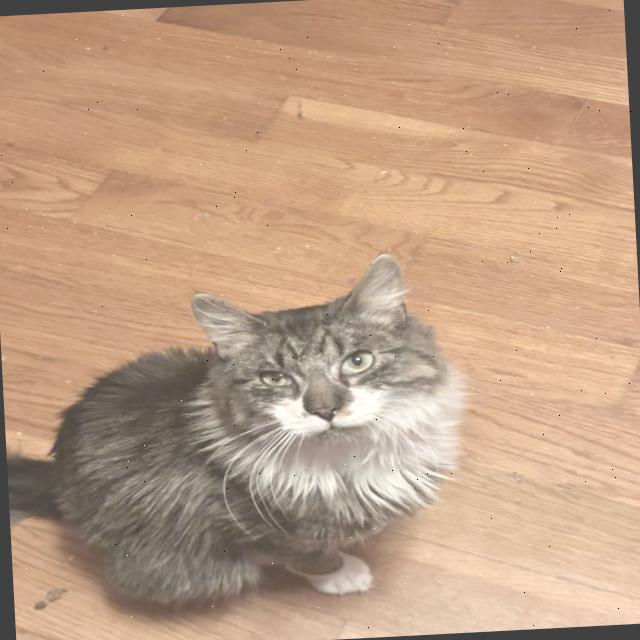maine_coon_cat: (168, 245, 480, 507)
